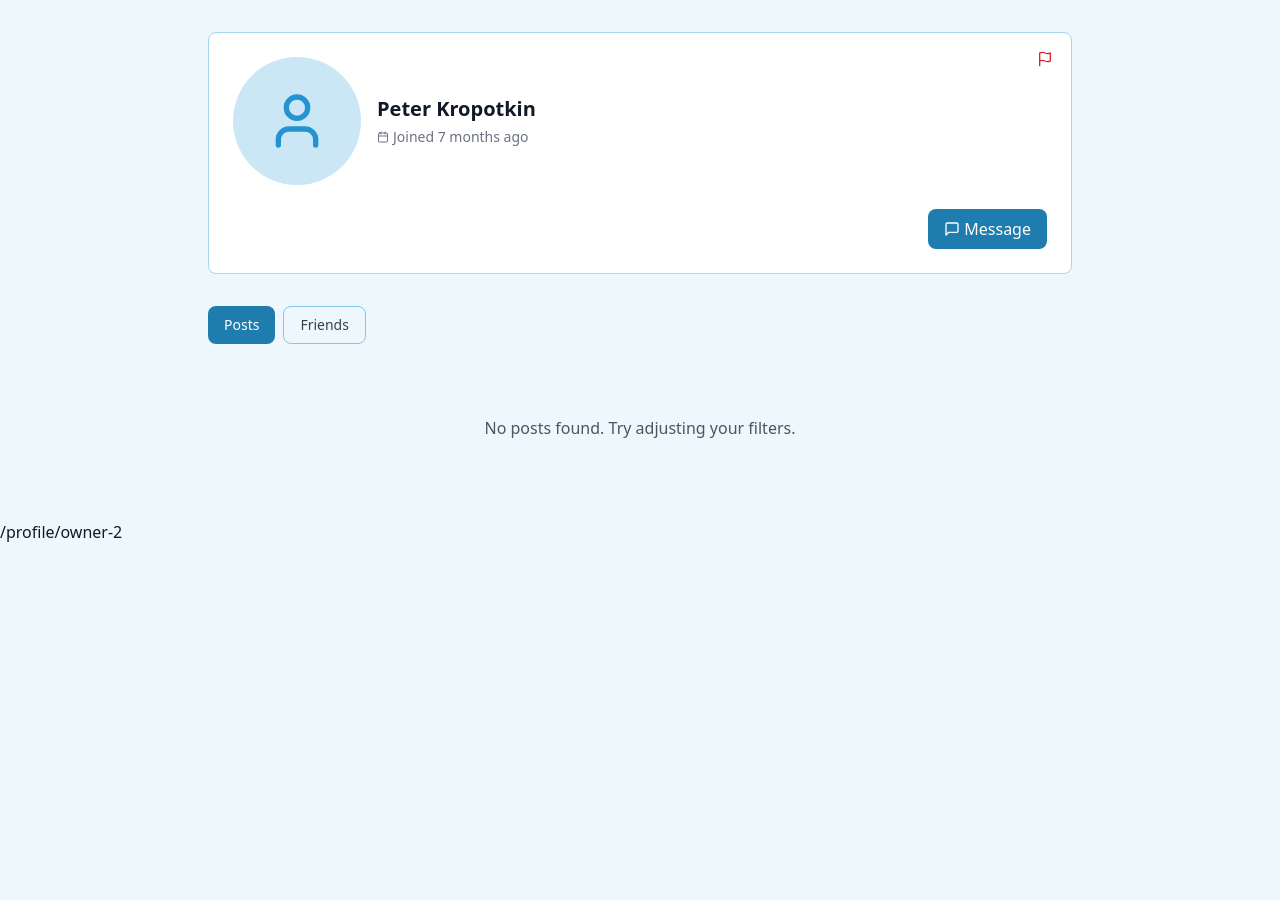
Test case: ProfilePage report flag › opens a confirmation dialog instead of submitting immediately
Click the button named "report user".
click(1045, 59)  # box top-left (1031, 45), bottom-right (1059, 73)
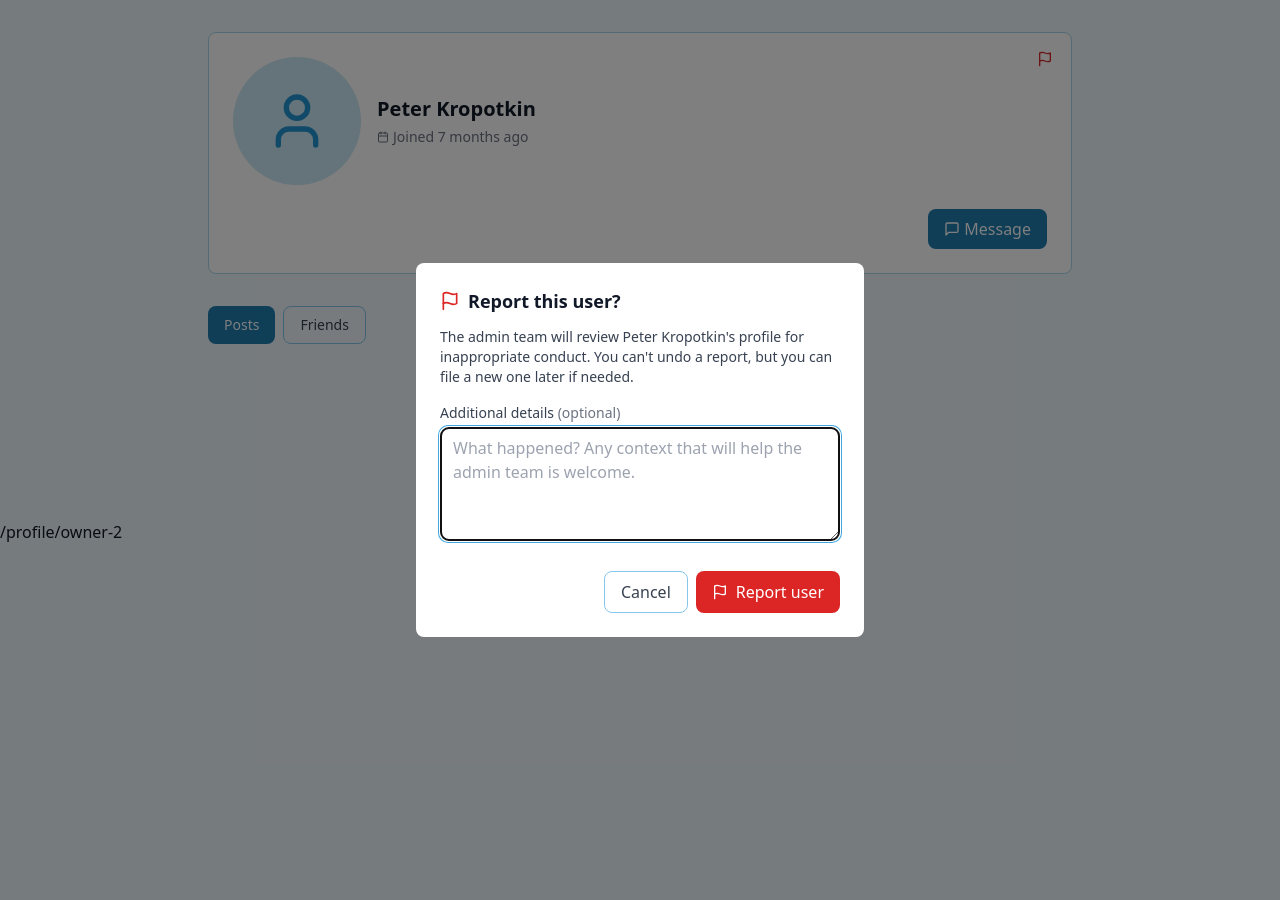
Expected: the heading "Report this user?" is shown, top-left (440, 289), bottom-right (621, 313)
